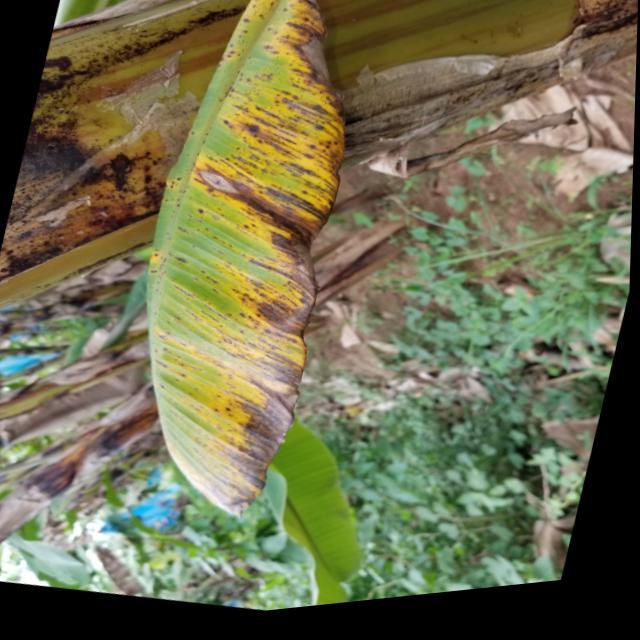Early_rust: (115, 0, 393, 519)
